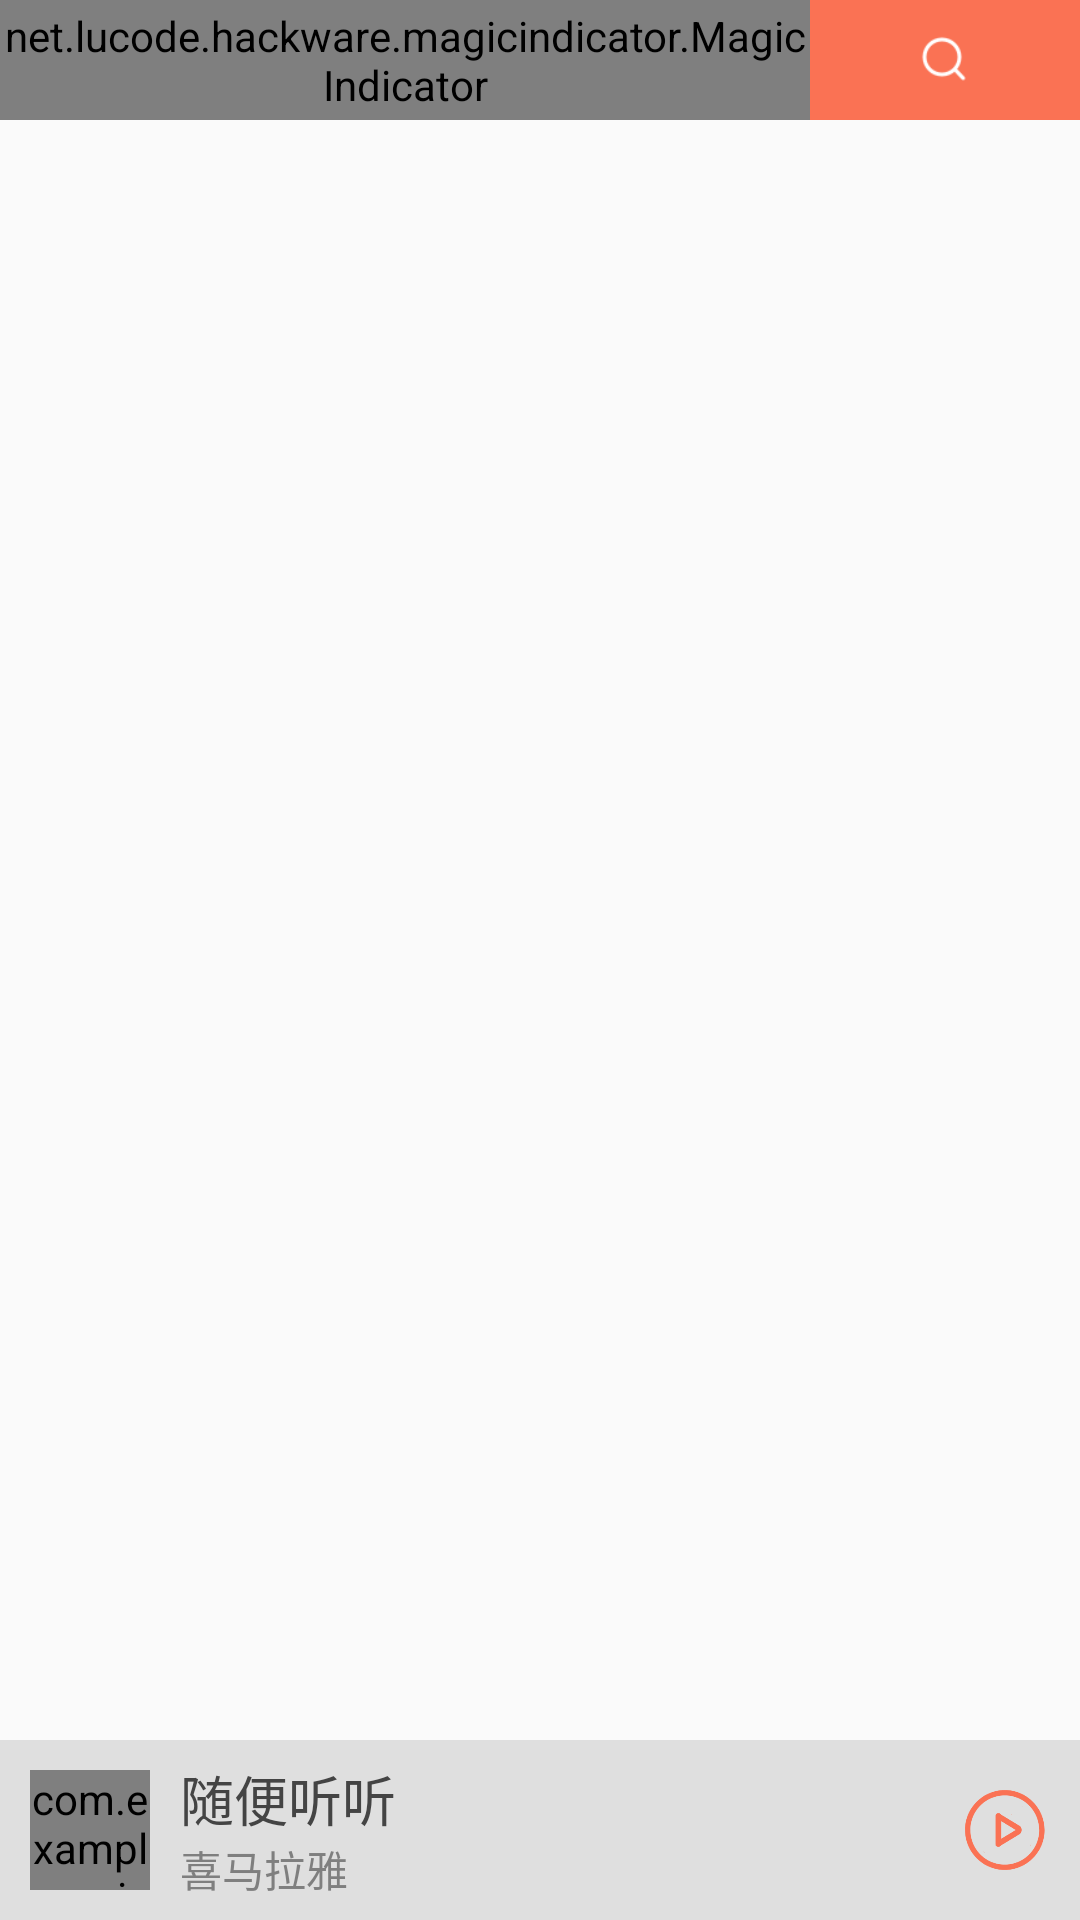

Locate icon controls on the screen. Image size 1080×1920, boxes as (x1, y1, x2, y2).
player play: (965, 1790, 1045, 1870)
search: (922, 37, 966, 81)
